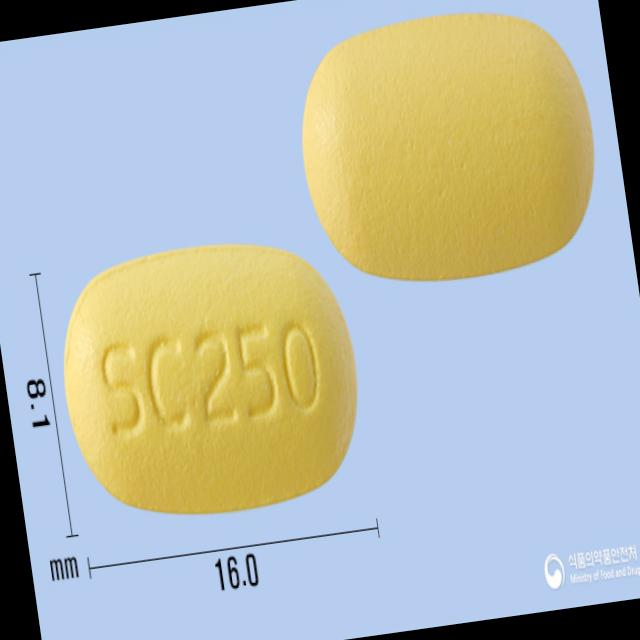Ceclacin: (46, 219, 378, 541)
